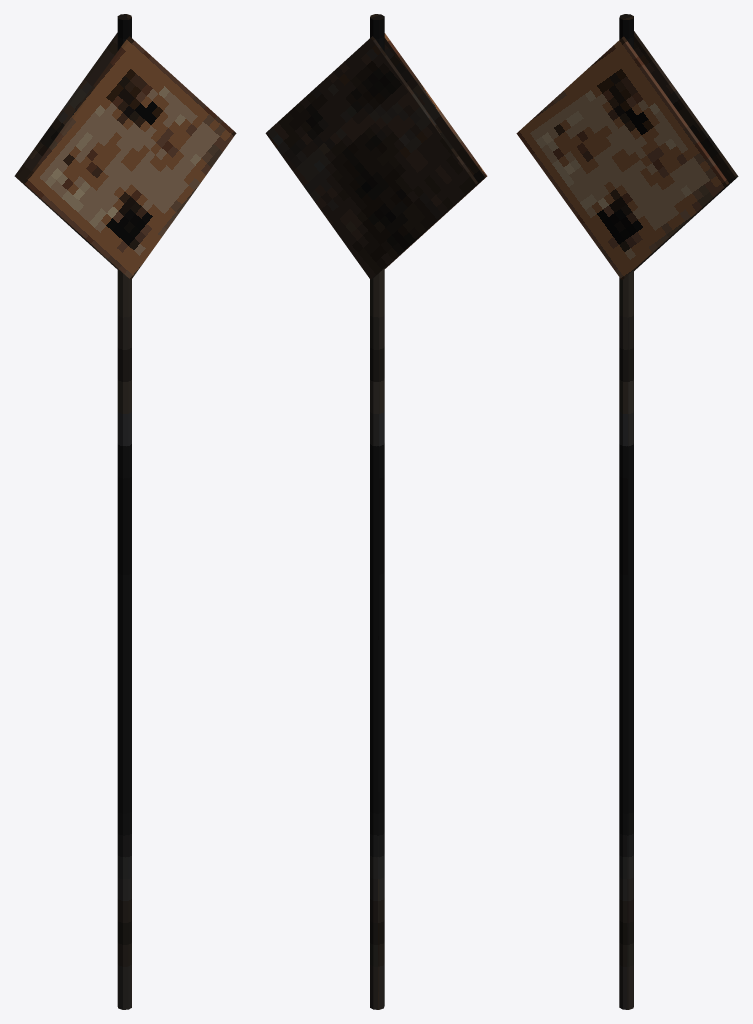
File: size_sign.glb
3 views of the same model, side by side, from view 1: azimuth 30°, elevation 25°; view 2: azimuth 150°, elevation 25°; view 3: azimuth 330°, elevation 25° (orthographic).
Visible parts, largest first — view 1: size_sign; view 2: size_sign; view 3: size_sign.
Boxes of the visible parts, x1=… form: size_sign: x1=14, y1=14, x2=236, y2=1009; size_sign: x1=265, y1=14, x2=487, y2=1009; size_sign: x1=516, y1=14, x2=738, y2=1009.
Bounding box in the file's own units: 1.64 × 7.38 × 0.1545.
Materials: 1 (1 with a texture image).
